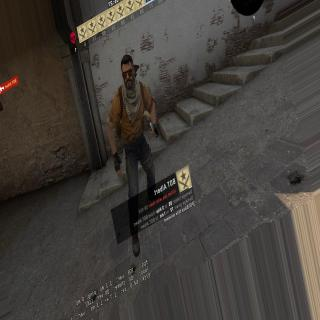T-Body: (107, 47, 160, 250)
T-Head: (120, 54, 137, 92)
